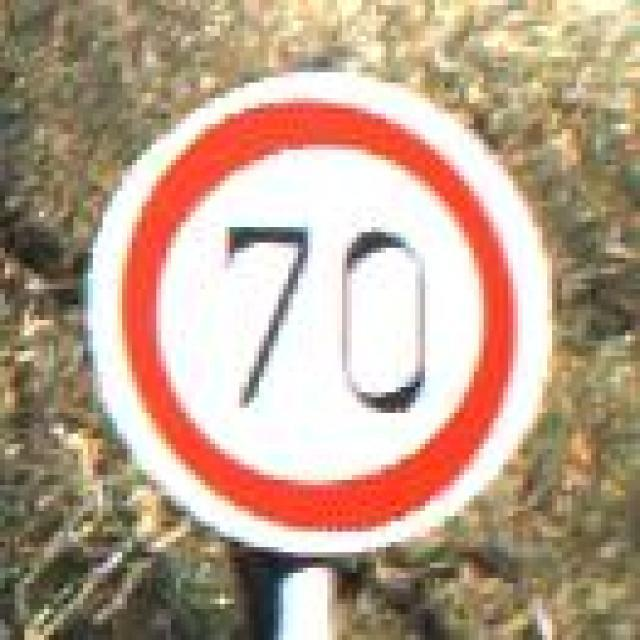Ograniczenie predkosci do 70: (59, 51, 582, 588)
